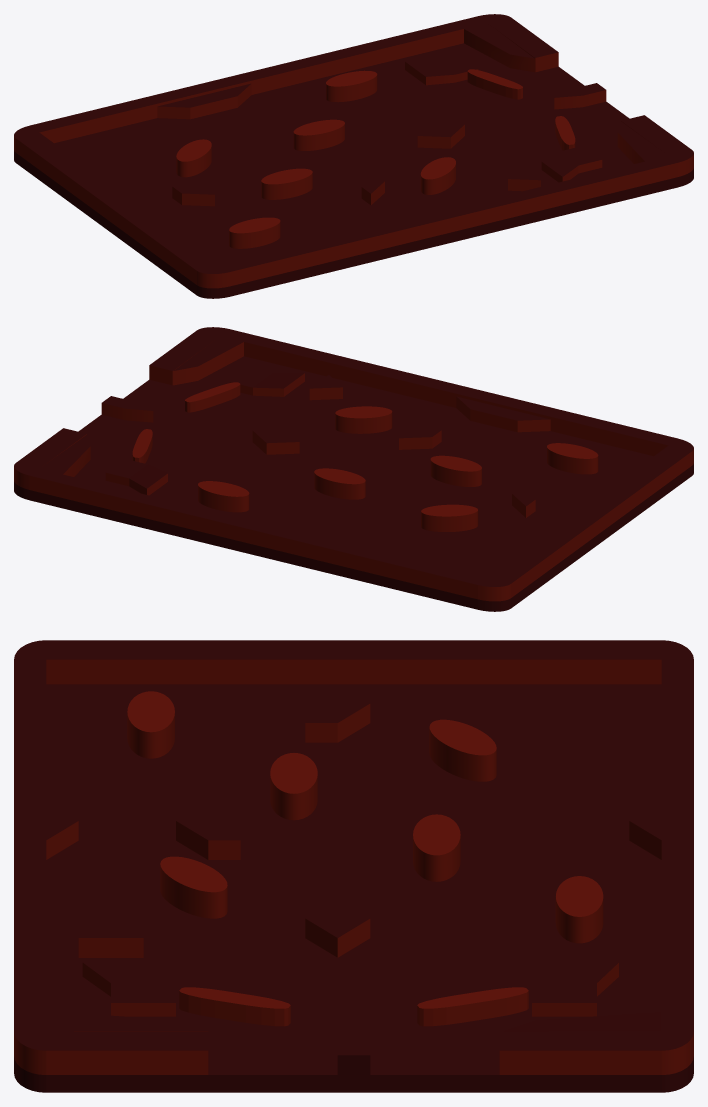
Rendered from Flipper.fbx.
The picture shows the model from 3 angles, top to bottom: view 1: azimuth 30°, elevation 25°; view 2: azimuth 150°, elevation 25°; view 3: azimuth 270°, elevation 25°; orthographic projection. The views are drawn at different scales.
Visible parts, largest first — view 1: Flipper, Hindernisse, Flipper Bewegbar rechts, Flipper Bewegbar links; view 2: Flipper, Hindernisse, Flipper Bewegbar links, Flipper Bewegbar rechts; view 3: Flipper, Hindernisse, Flipper Bewegbar rechts, Flipper Bewegbar links.
Boxes of the visible parts, x1=… form: Flipper: x1=14, y1=14, x2=693, y2=298; Hindernisse: x1=176, y1=70, x2=455, y2=248; Flipper Bewegbar rechts: x1=467, y1=69, x2=522, y2=99; Flipper Bewegbar links: x1=555, y1=116, x2=575, y2=150; Flipper: x1=14, y1=327, x2=693, y2=611; Hindernisse: x1=198, y1=406, x2=598, y2=531; Flipper Bewegbar links: x1=185, y1=382, x2=240, y2=412; Flipper Bewegbar rechts: x1=132, y1=429, x2=152, y2=463; Flipper: x1=14, y1=640, x2=693, y2=1092; Hindernisse: x1=127, y1=691, x2=603, y2=943; Flipper Bewegbar rechts: x1=417, y1=987, x2=528, y2=1026; Flipper Bewegbar links: x1=179, y1=987, x2=290, y2=1026.
Bounding box in the file's own units: 2000 × 100 × 1400.
